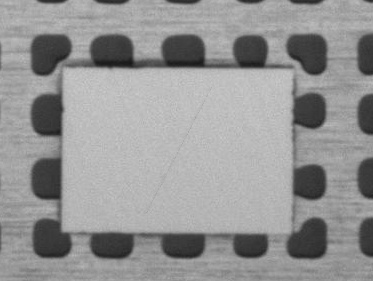DIE_CRACK: (194, 66, 280, 160)
